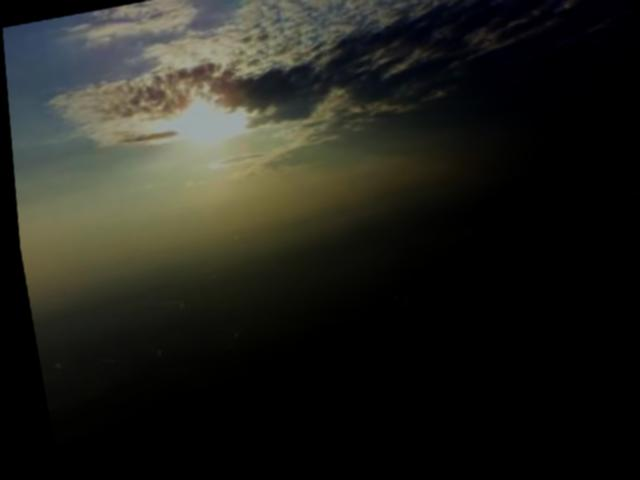uav: (363, 283, 441, 330)
